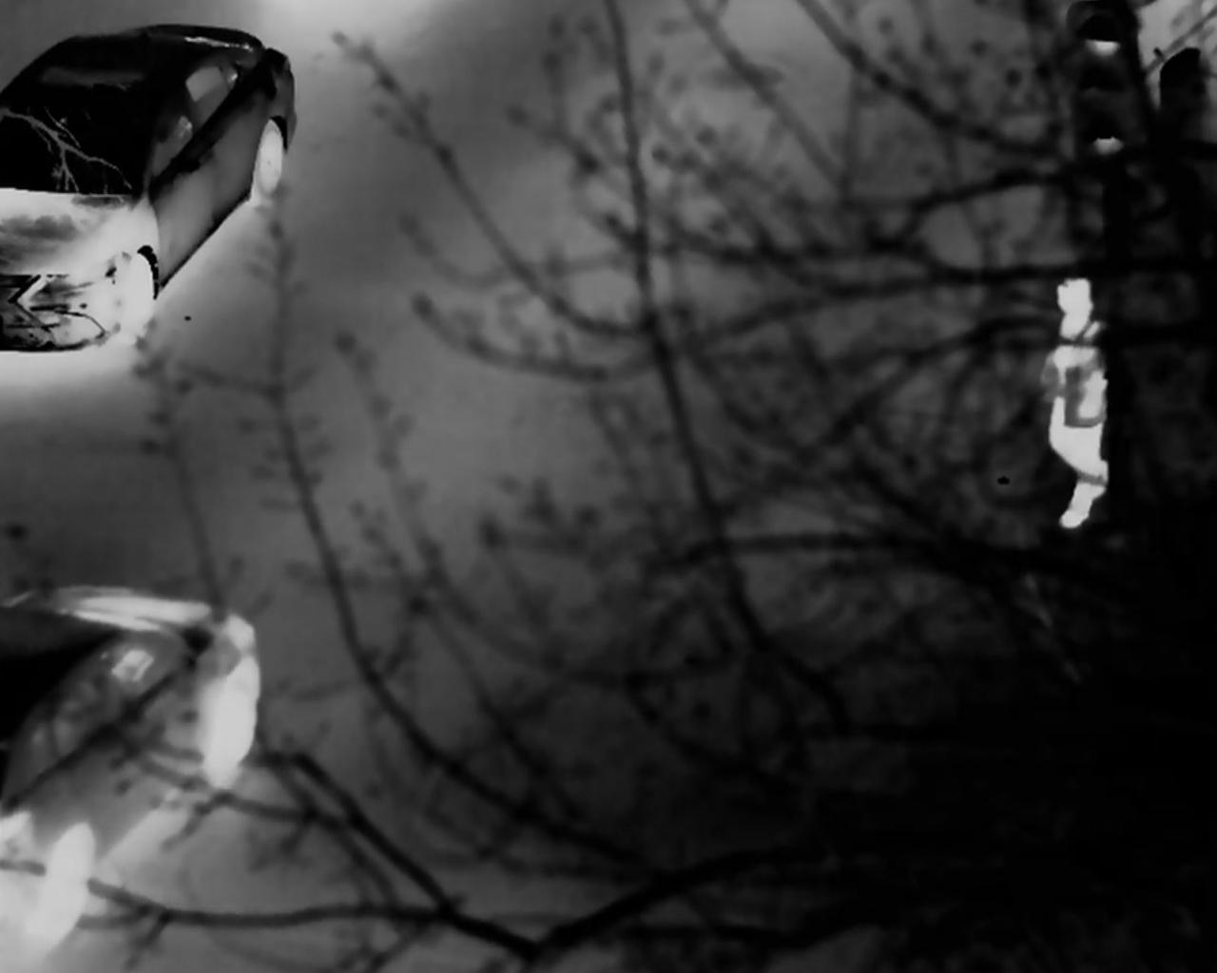person: (1048, 277, 1111, 528)
